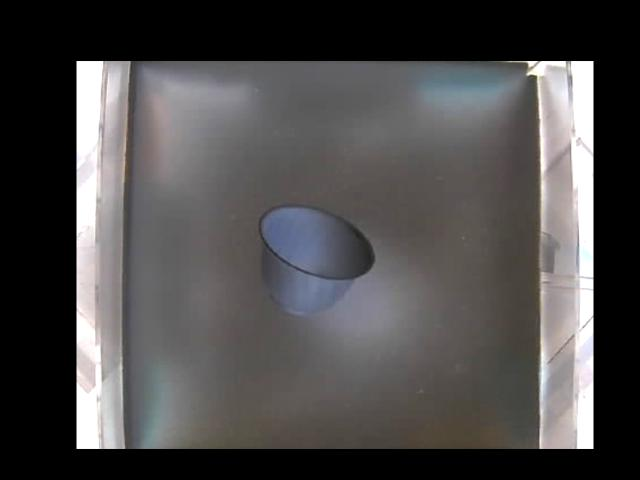Cup: (256, 202, 375, 313)
